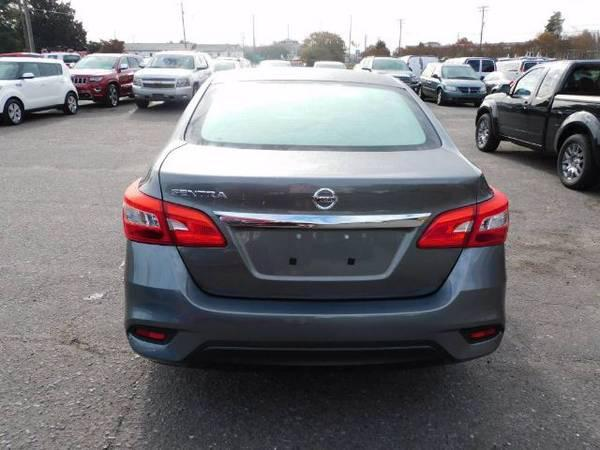Left_Taillight: (122, 180, 226, 244)
Rear_Bumper: (123, 240, 506, 368)
Rear_Windshield: (182, 79, 443, 150)
Right_Taillight: (417, 189, 507, 247)
Roof: (204, 65, 405, 87)
Tailgate: (143, 139, 494, 298)
